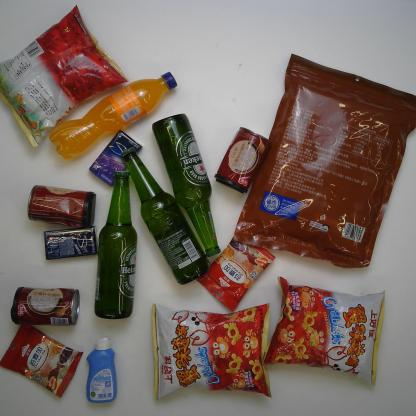Alcohol: (114, 142, 213, 289), (150, 108, 226, 259), (93, 169, 140, 323)
Canned Food: (213, 122, 273, 196), (25, 182, 97, 231), (9, 284, 81, 330)
Dried Food: (228, 50, 416, 269)
Drink: (48, 69, 178, 163)
Gum: (88, 126, 145, 188), (40, 225, 100, 261)
Instant Drink: (194, 221, 280, 314), (1, 320, 84, 401)
Personal Hygiene: (83, 335, 119, 407)
Puffed Food: (0, 3, 130, 150), (259, 273, 389, 390), (144, 298, 276, 401)
